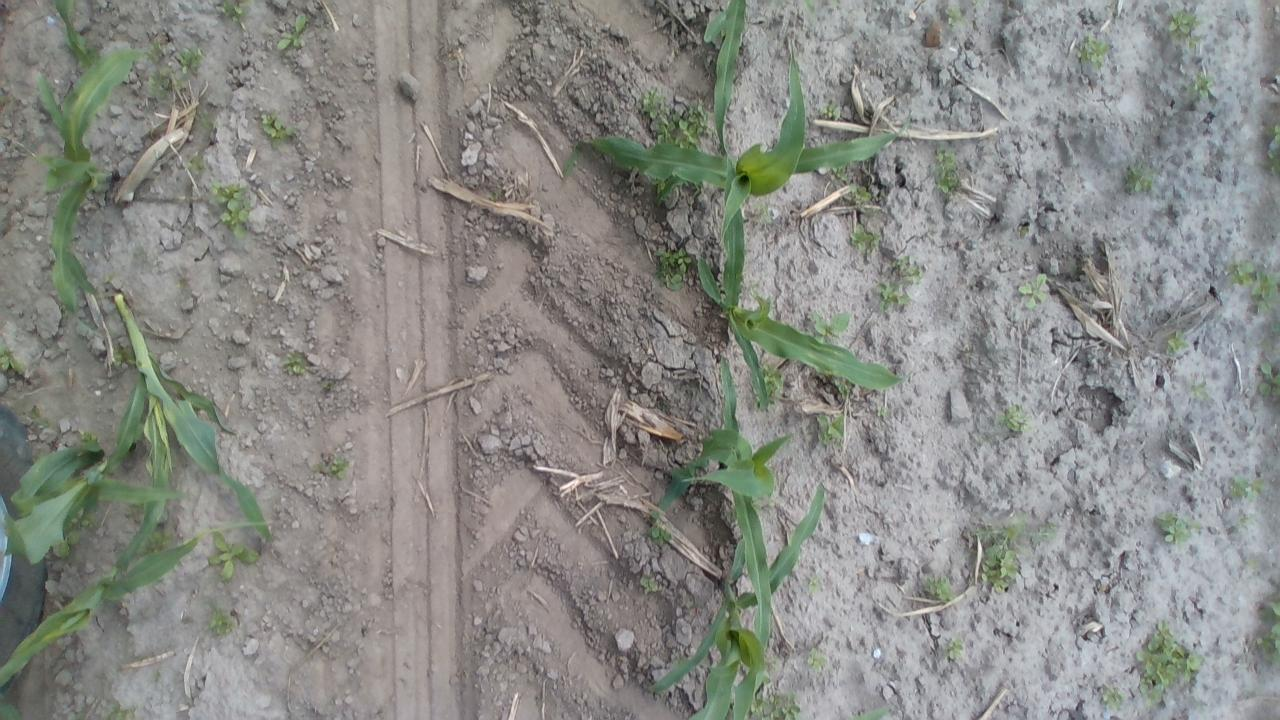Maize: (564, 44, 914, 306), (107, 290, 292, 569), (0, 520, 286, 686), (644, 481, 830, 720), (652, 353, 792, 654), (694, 256, 905, 412), (33, 45, 140, 319), (1, 436, 190, 562), (706, 2, 748, 157), (52, 0, 88, 63), (838, 700, 896, 720)
Weeds: (972, 520, 1056, 590), (1136, 620, 1204, 704), (210, 529, 260, 581), (654, 103, 704, 152), (213, 180, 250, 235), (1251, 598, 1280, 658), (656, 248, 694, 287), (933, 150, 963, 194), (276, 12, 308, 51), (1155, 512, 1192, 544), (1018, 274, 1048, 308), (814, 310, 852, 336), (1226, 474, 1262, 501), (1226, 256, 1258, 286), (1080, 35, 1112, 64), (646, 509, 671, 546), (817, 414, 847, 444), (262, 112, 292, 141), (53, 530, 84, 558), (1168, 9, 1202, 34), (140, 527, 172, 553), (877, 282, 909, 308), (768, 692, 800, 718), (760, 364, 783, 400), (1124, 163, 1152, 192), (1258, 361, 1280, 397), (923, 577, 956, 600), (1000, 403, 1026, 432), (1252, 272, 1274, 306), (1267, 123, 1280, 180), (150, 70, 177, 97), (642, 88, 666, 117), (314, 458, 348, 478), (212, 605, 234, 633), (175, 50, 202, 72), (218, 0, 245, 22), (849, 229, 879, 248), (0, 348, 20, 374), (283, 354, 306, 375), (111, 344, 132, 367), (820, 97, 840, 121), (147, 42, 166, 66), (1166, 330, 1186, 352), (1098, 684, 1120, 703), (757, 204, 775, 226), (896, 256, 914, 276), (1195, 74, 1211, 95), (946, 637, 964, 655), (853, 184, 873, 200), (804, 574, 821, 592), (808, 652, 826, 668), (110, 706, 131, 719), (946, 7, 962, 24), (188, 157, 206, 172), (1191, 381, 1209, 396), (641, 574, 655, 593), (832, 164, 848, 178), (322, 378, 334, 391)
